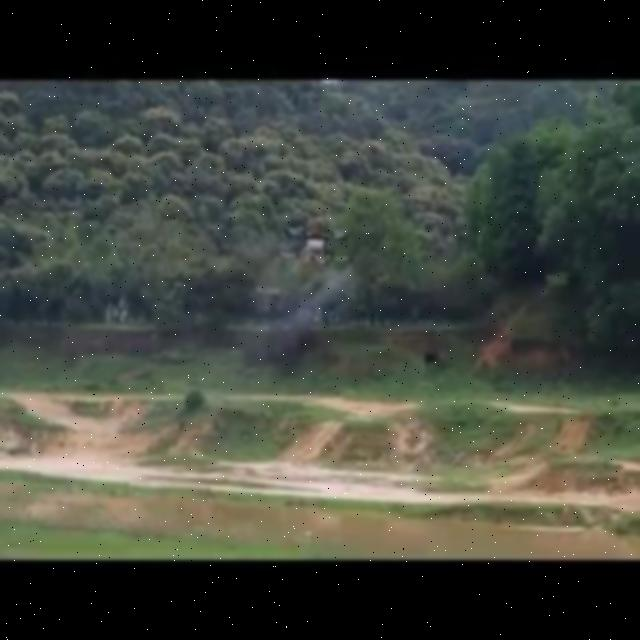UAV: (276, 222, 352, 268)
